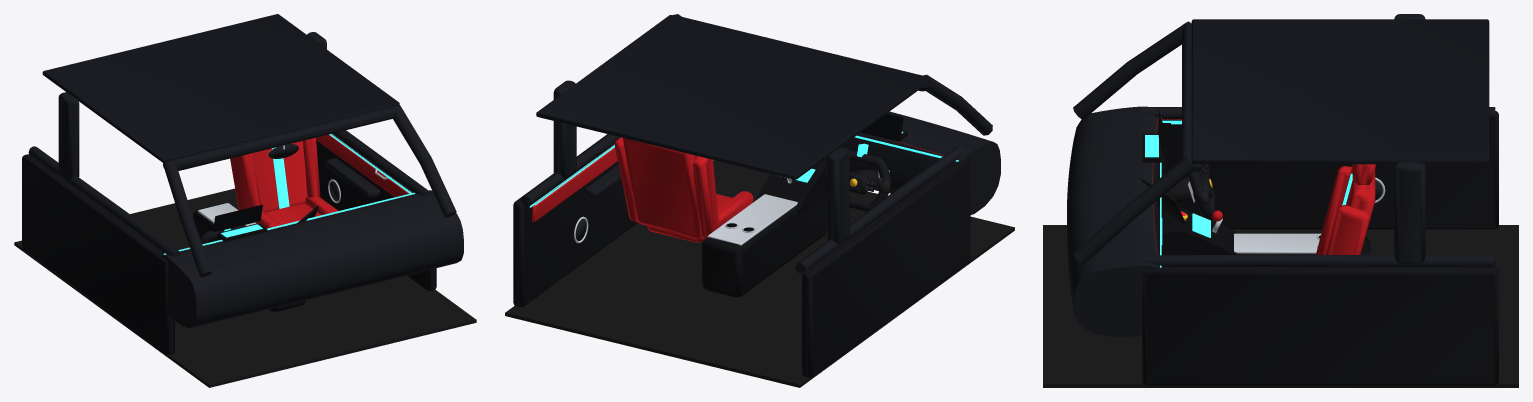
Rendered from int_amboola.glb.
The picture shows the model from 3 angles, left to right: view 1: azimuth 30°, elevation 25°; view 2: azimuth 150°, elevation 25°; view 3: azimuth 270°, elevation 25°; orthographic projection. The views are drawn at different scales.
Visible parts, largest first — view 1: box.013, Dash, box.015, box, box.012, box.004, box.018, DoorTop, box.008, Pillar.001, Pillar, box.019 (+10 smaller); view 2: box.013, box.015, box, box.004, Dash, box.016, box.018, DoorTop, box.008, box.017, Stack, box.019 (+10 smaller); view 3: box.013, box.004, Dash, box.015, box, DoorTop.001, box.010, Pillar.001, Stack, Pillar, box.017, box.021 (+7 smaller).
Part boxes in pixels (x1,y1,x2,y2): box.013: (42, 14, 399, 163); Dash: (162, 190, 463, 328); box.015: (14, 188, 476, 387); box: (22, 154, 174, 354); box.012: (163, 106, 395, 170); box.004: (316, 130, 436, 290); box.018: (252, 141, 307, 212); DoorTop: (28, 146, 181, 256); box.008: (58, 92, 79, 180); Pillar.001: (392, 105, 456, 217); Pillar: (163, 160, 211, 277); box.019: (230, 153, 260, 210); box.013: (536, 15, 929, 179); box.015: (505, 160, 1014, 387); box: (802, 158, 970, 377); box.004: (513, 134, 637, 307); Dash: (825, 111, 1000, 214); box.016: (702, 197, 826, 297); box.018: (623, 138, 701, 238); DoorTop: (795, 146, 964, 273); box.008: (827, 147, 849, 244); box.017: (707, 194, 797, 245); Stack: (756, 159, 826, 214); box.019: (693, 156, 718, 238); box.013: (1191, 19, 1489, 164); box.004: (1142, 266, 1498, 385); Dash: (1067, 106, 1166, 336); box.015: (1043, 225, 1518, 387); box: (1161, 111, 1498, 229); DoorTop.001: (1142, 254, 1495, 266); box.010: (1394, 161, 1425, 263); Pillar.001: (1073, 156, 1195, 264); Stack: (1162, 207, 1238, 255); Pillar: (1073, 21, 1191, 119); box.017: (1234, 233, 1320, 253); box.021: (1325, 205, 1369, 254).
Size of the model in its own units: 1.93 by 1.22 by 2.4.
